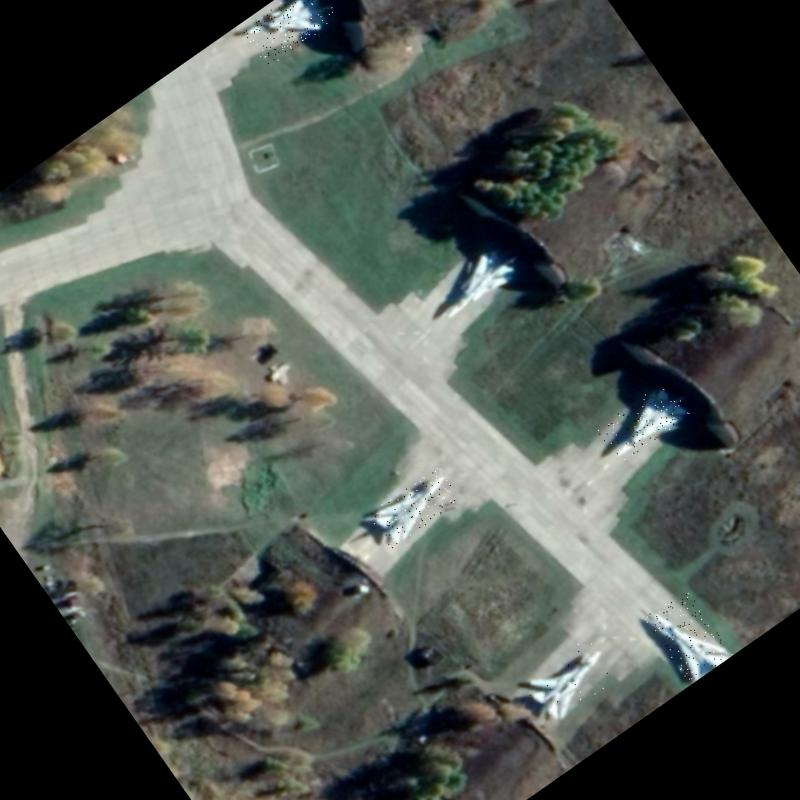A20: (520, 635, 621, 728), (644, 588, 733, 684), (425, 240, 522, 326), (596, 379, 692, 464), (368, 465, 462, 548), (241, 0, 339, 68)
